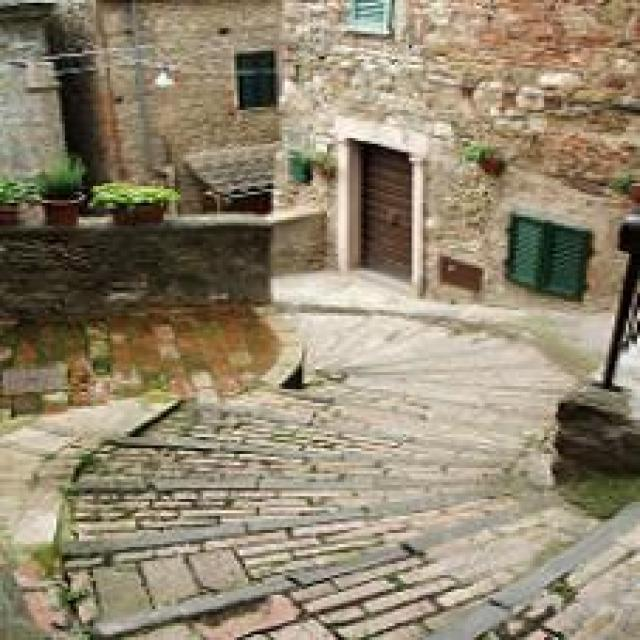stair: (59, 426, 553, 584)
